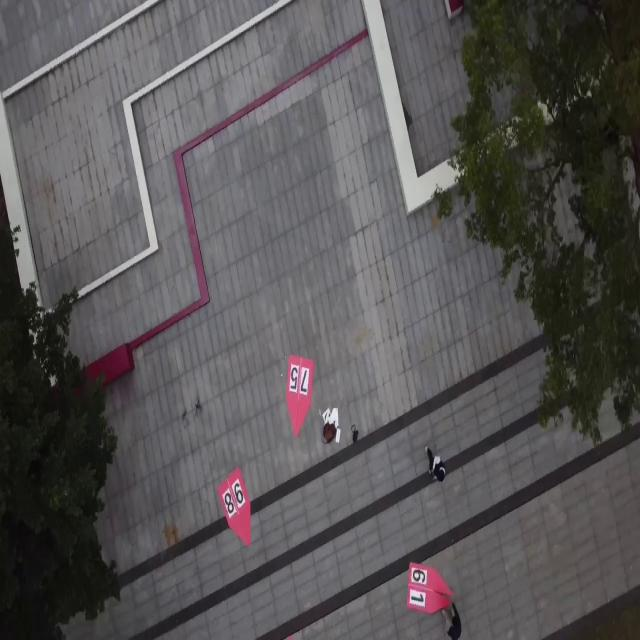-sign-: (404, 557, 462, 621), (282, 347, 317, 443), (217, 466, 251, 548)
